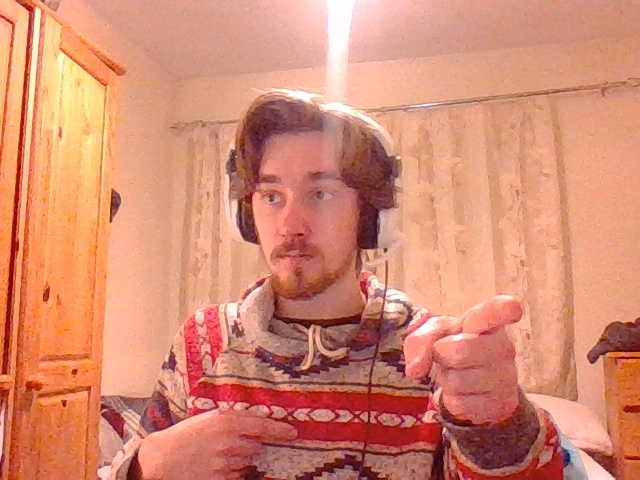you: (401, 295, 524, 425)
